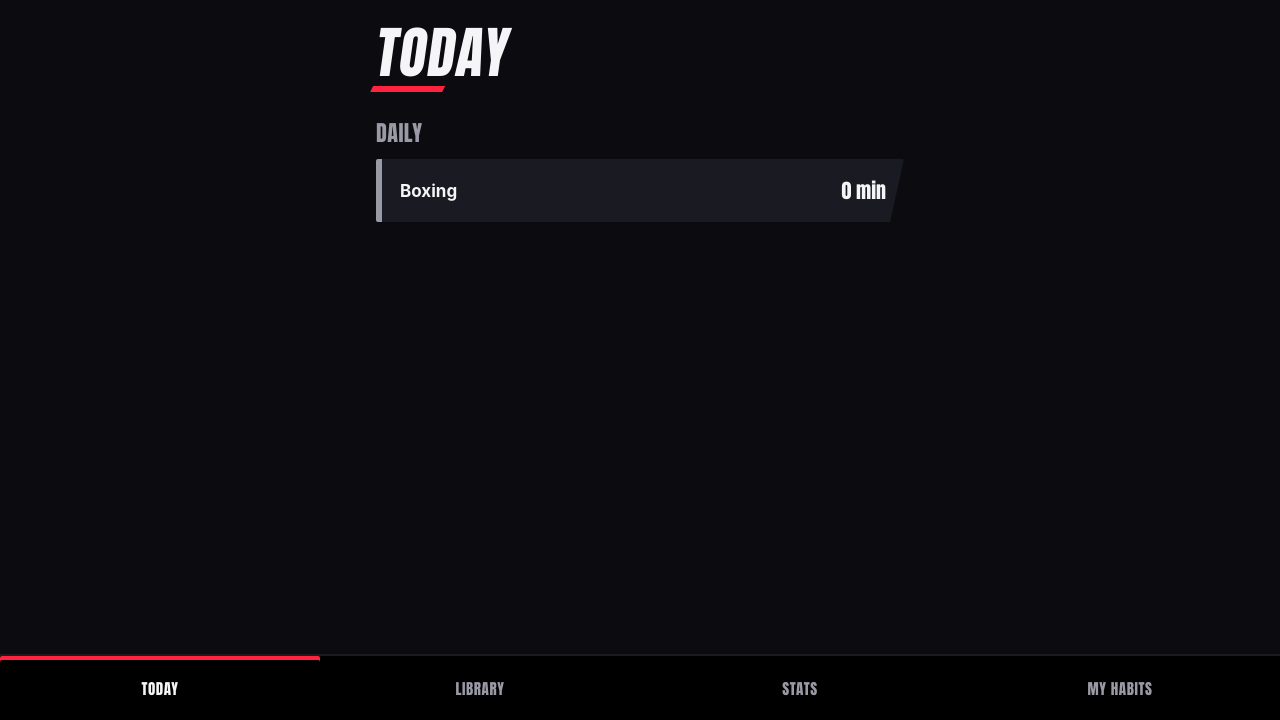
it: log sheet › quick buttons set the minutes
Click the button "Boxing 0 min" at (429, 190), box [376,159,904,222]
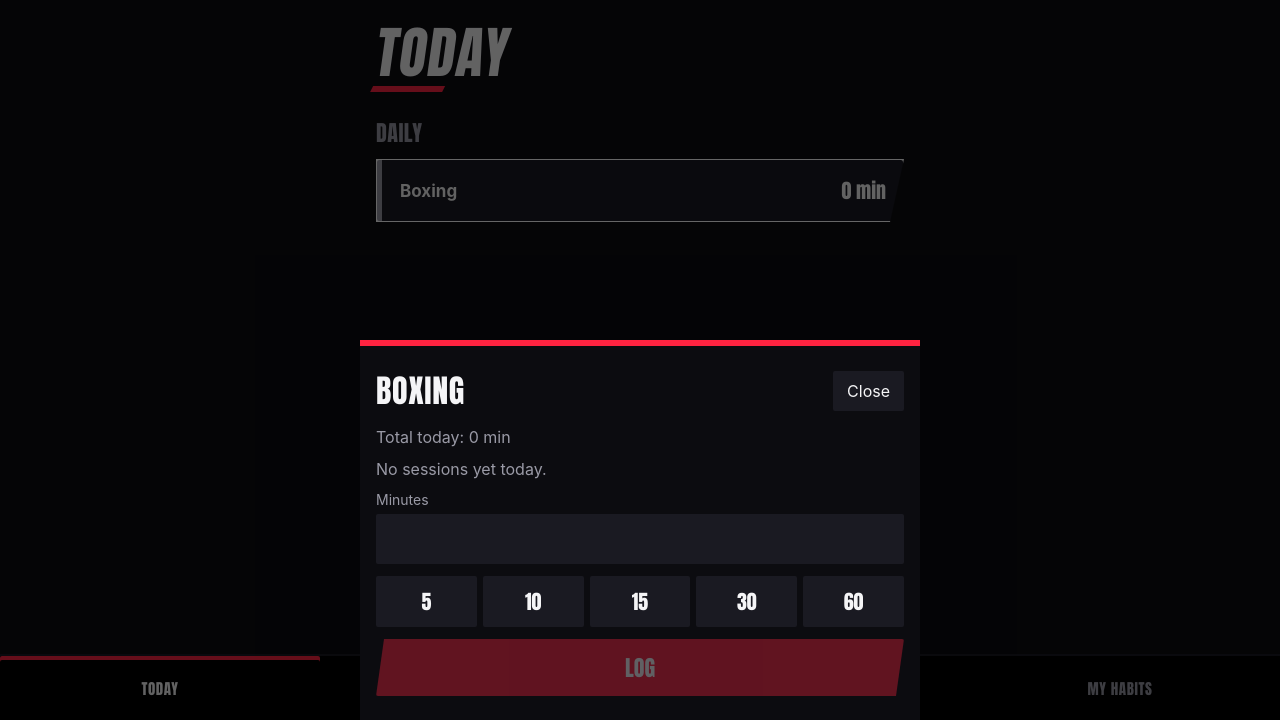
Click the button "30" at (747, 602), box [696,576,797,627]
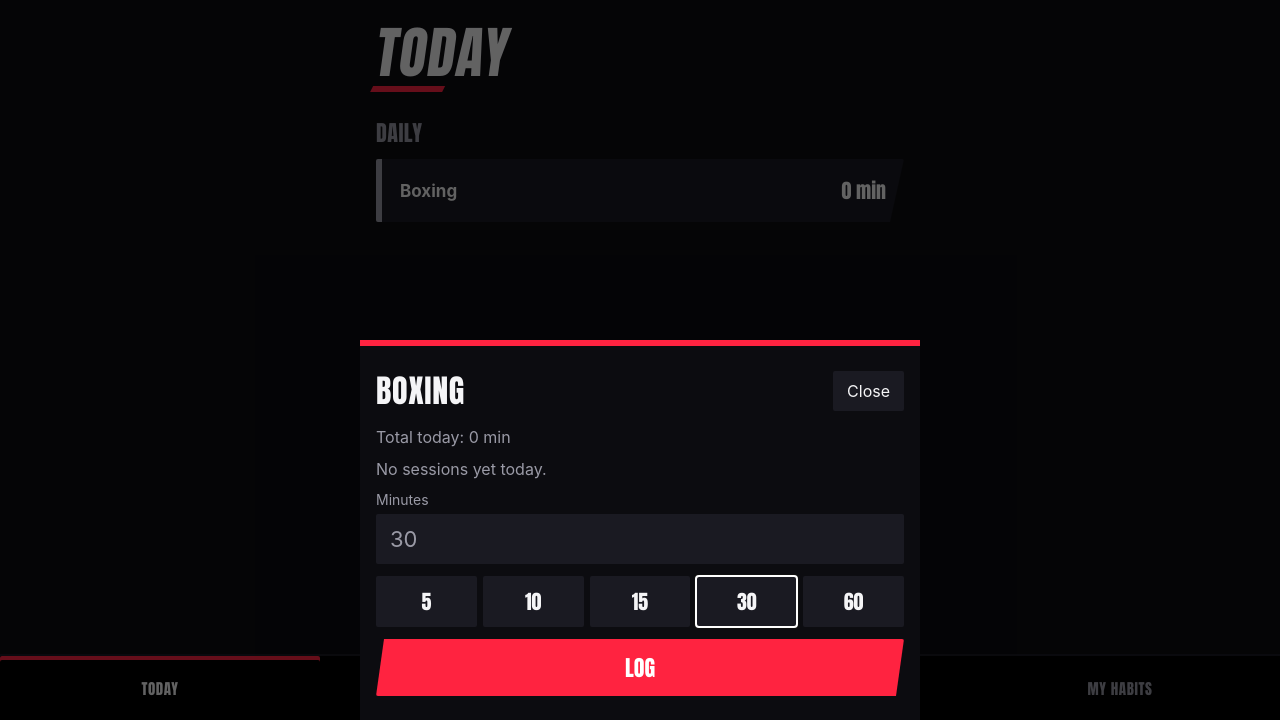
Expected: the field labelled "Minutes" holds "30", [376,514,904,564]
